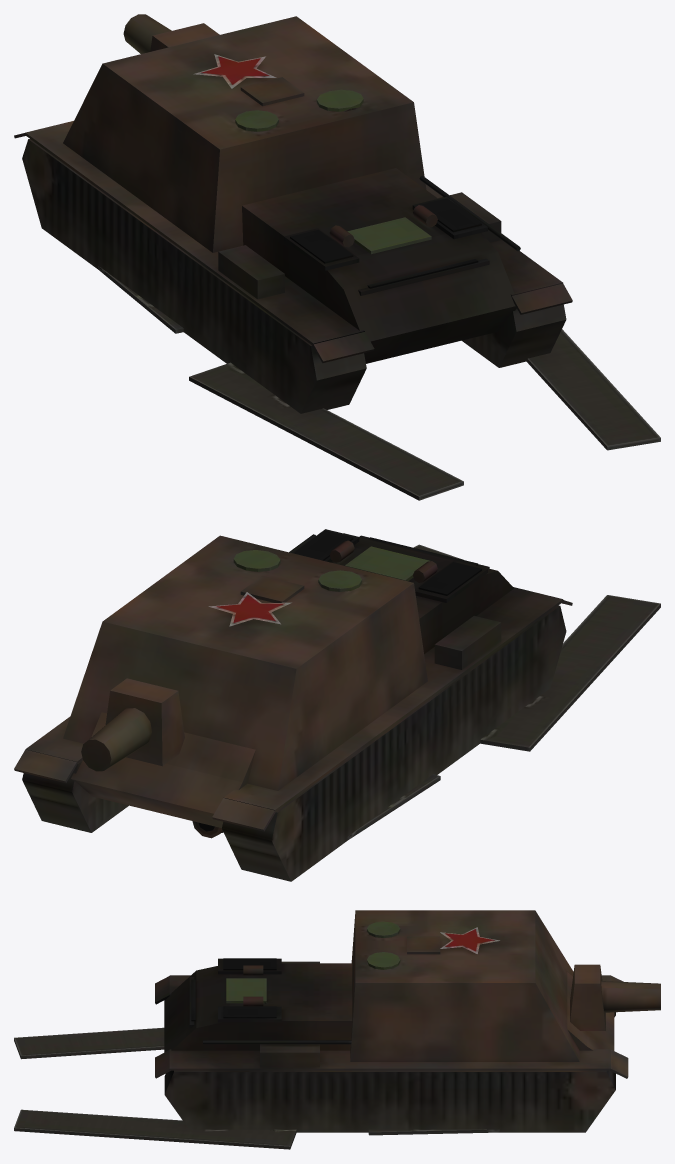
3 renders of one model, top to bottom at view 1: azimuth 30°, elevation 25°; view 2: azimuth 150°, elevation 25°; view 3: azimuth 270°, elevation 25°, orthographic. The views are drawn at different scales.
Parts seen in each view (by area): view 1: hull_ko, hull_trackL, hull_trackR, hull_ok; view 2: hull_ko, hull_trackL, hull_ok; view 3: hull_ko, hull_trackR, hull_trackL, hull_ok.
Part boxes in pixels (<box>): hull_ko: <box>14,14,572,413</box>; hull_trackL: <box>98,266,463,500</box>; hull_trackR: <box>526,329,660,450</box>; hull_ok: <box>235,89,431,254</box>; hull_ko: <box>14,529,572,881</box>; hull_trackL: <box>347,595,660,840</box>; hull_ok: <box>233,546,429,591</box>; hull_ko: <box>155,910,660,1132</box>; hull_trackR: <box>14,1109,499,1149</box>; hull_trackL: <box>14,1027,164,1059</box>; hull_ok: <box>226,921,400,1003</box>.
Bounding box in the file's own units: 4.51 × 2.7 × 9.68.
16 materials, 16 textured.
